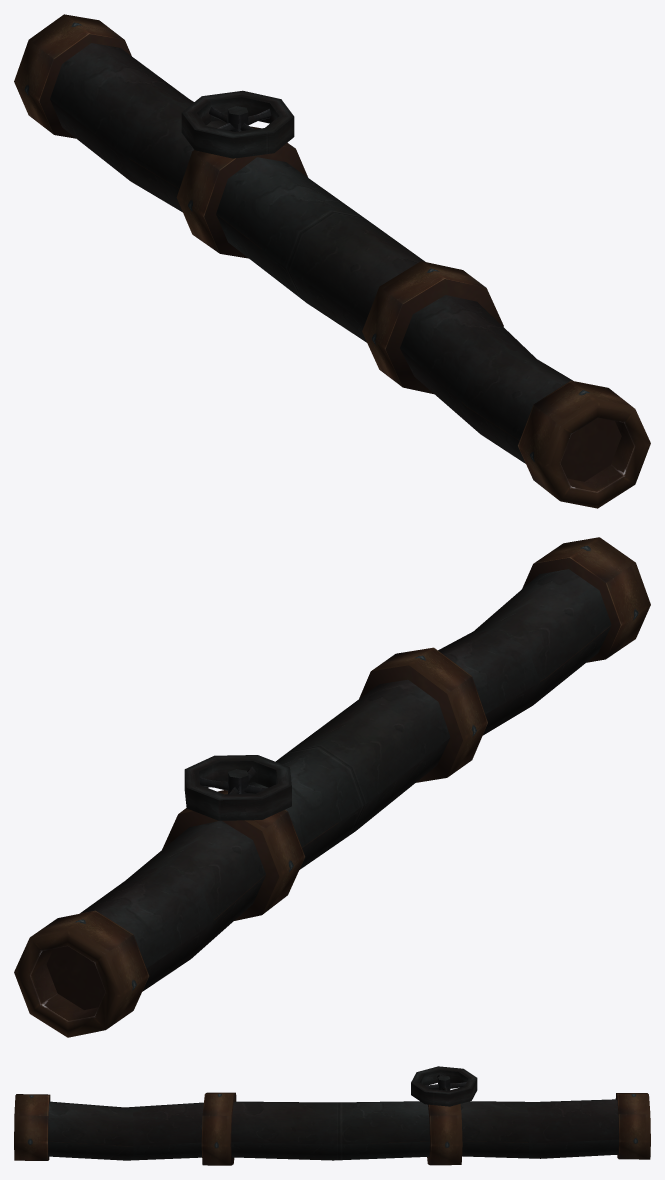
File: sewer_pipe003.FBX
3 views of the same model, one above another, from view 1: azimuth 30°, elevation 25°; view 2: azimuth 150°, elevation 25°; view 3: azimuth 270°, elevation 25° (orthographic). The views are drawn at different scales.
Parts seen in each view (by area): view 1: sewer_pipe003; view 2: sewer_pipe003; view 3: sewer_pipe003.
Boxes of the visible parts, left/top/right/bottom form: sewer_pipe003: left=14, top=14, right=650, bottom=508; sewer_pipe003: left=14, top=537, right=650, bottom=1037; sewer_pipe003: left=14, top=1066, right=650, bottom=1165.
Size of the model in its own units: 163 by 185 by 1266.
